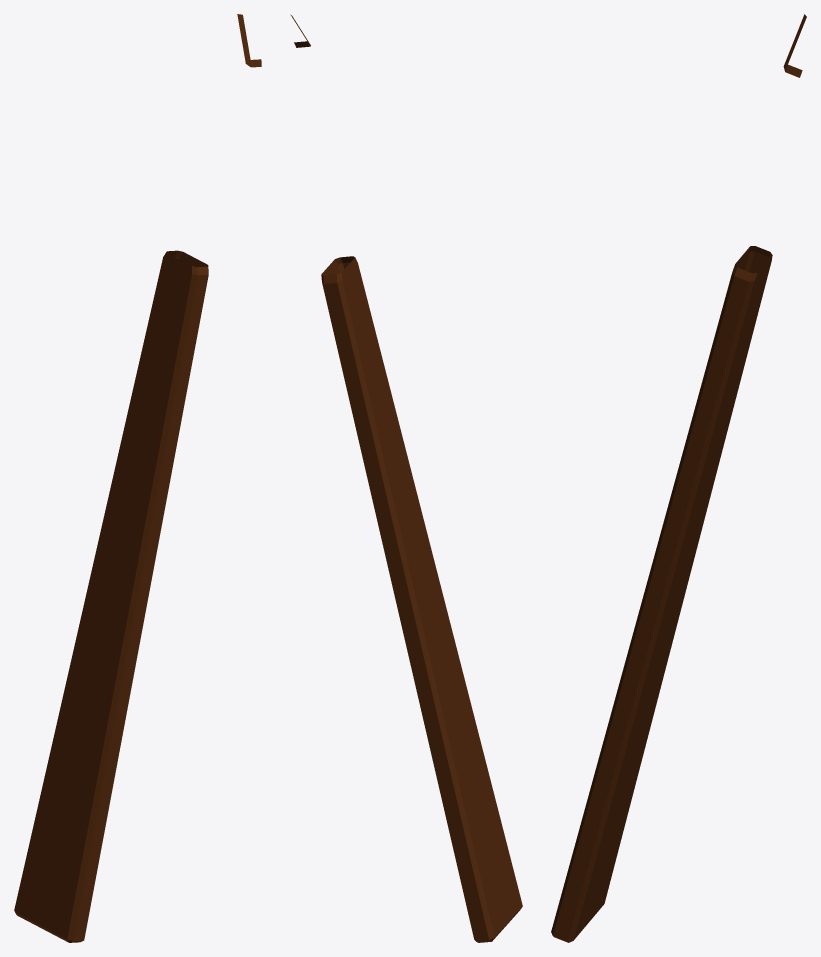
The model's file is grif_material.015_0_lev1.glb.
3 views of the same model, side by side, from view 1: azimuth 30°, elevation 25°; view 2: azimuth 150°, elevation 25°; view 3: azimuth 330°, elevation 25° (orthographic). The views are drawn at different scales.
Parts seen in each view (by area): view 1: grif_material.015_0_lev1; view 2: grif_material.015_0_lev1; view 3: grif_material.015_0_lev1.
Boxes of the visible parts, bbox=[...] form: grif_material.015_0_lev1: bbox=[14, 14, 261, 942]; grif_material.015_0_lev1: bbox=[290, 14, 522, 942]; grif_material.015_0_lev1: bbox=[551, 14, 806, 942].
Size of the model in its own units: 13.07 by 48.37 by 4.83.
